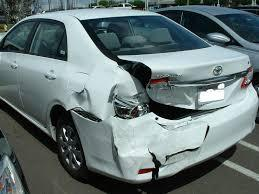boot-dent: (132, 65, 245, 117)
quaterpanel-dent: (49, 73, 121, 128)
rear-bumper-dent: (117, 127, 214, 181)
